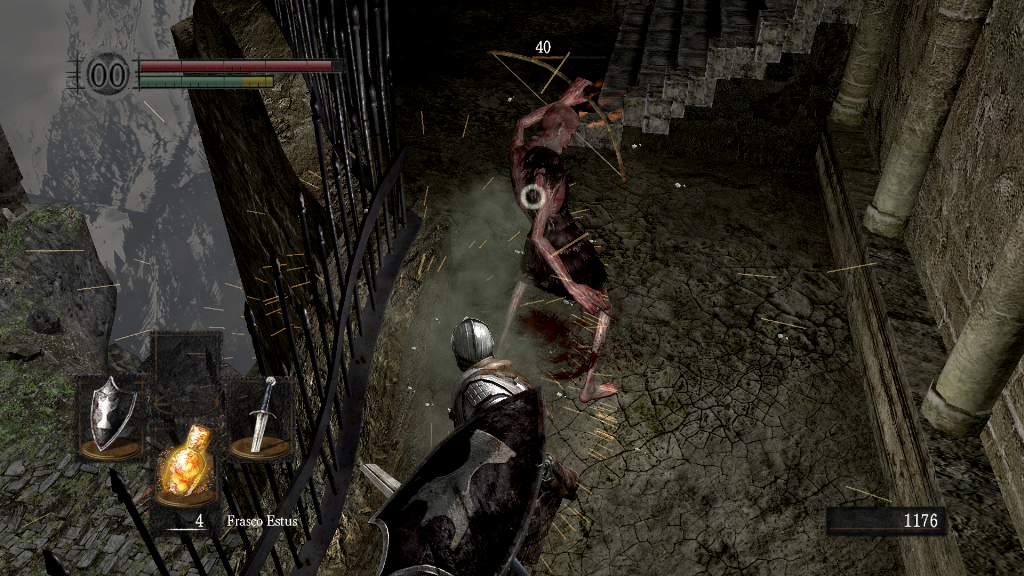health: (138, 58, 343, 71)
hollow: (487, 46, 621, 401)
humanity: (80, 45, 136, 102)
player: (358, 315, 580, 576)
souls: (825, 506, 945, 536)
stamina: (138, 74, 274, 88)
